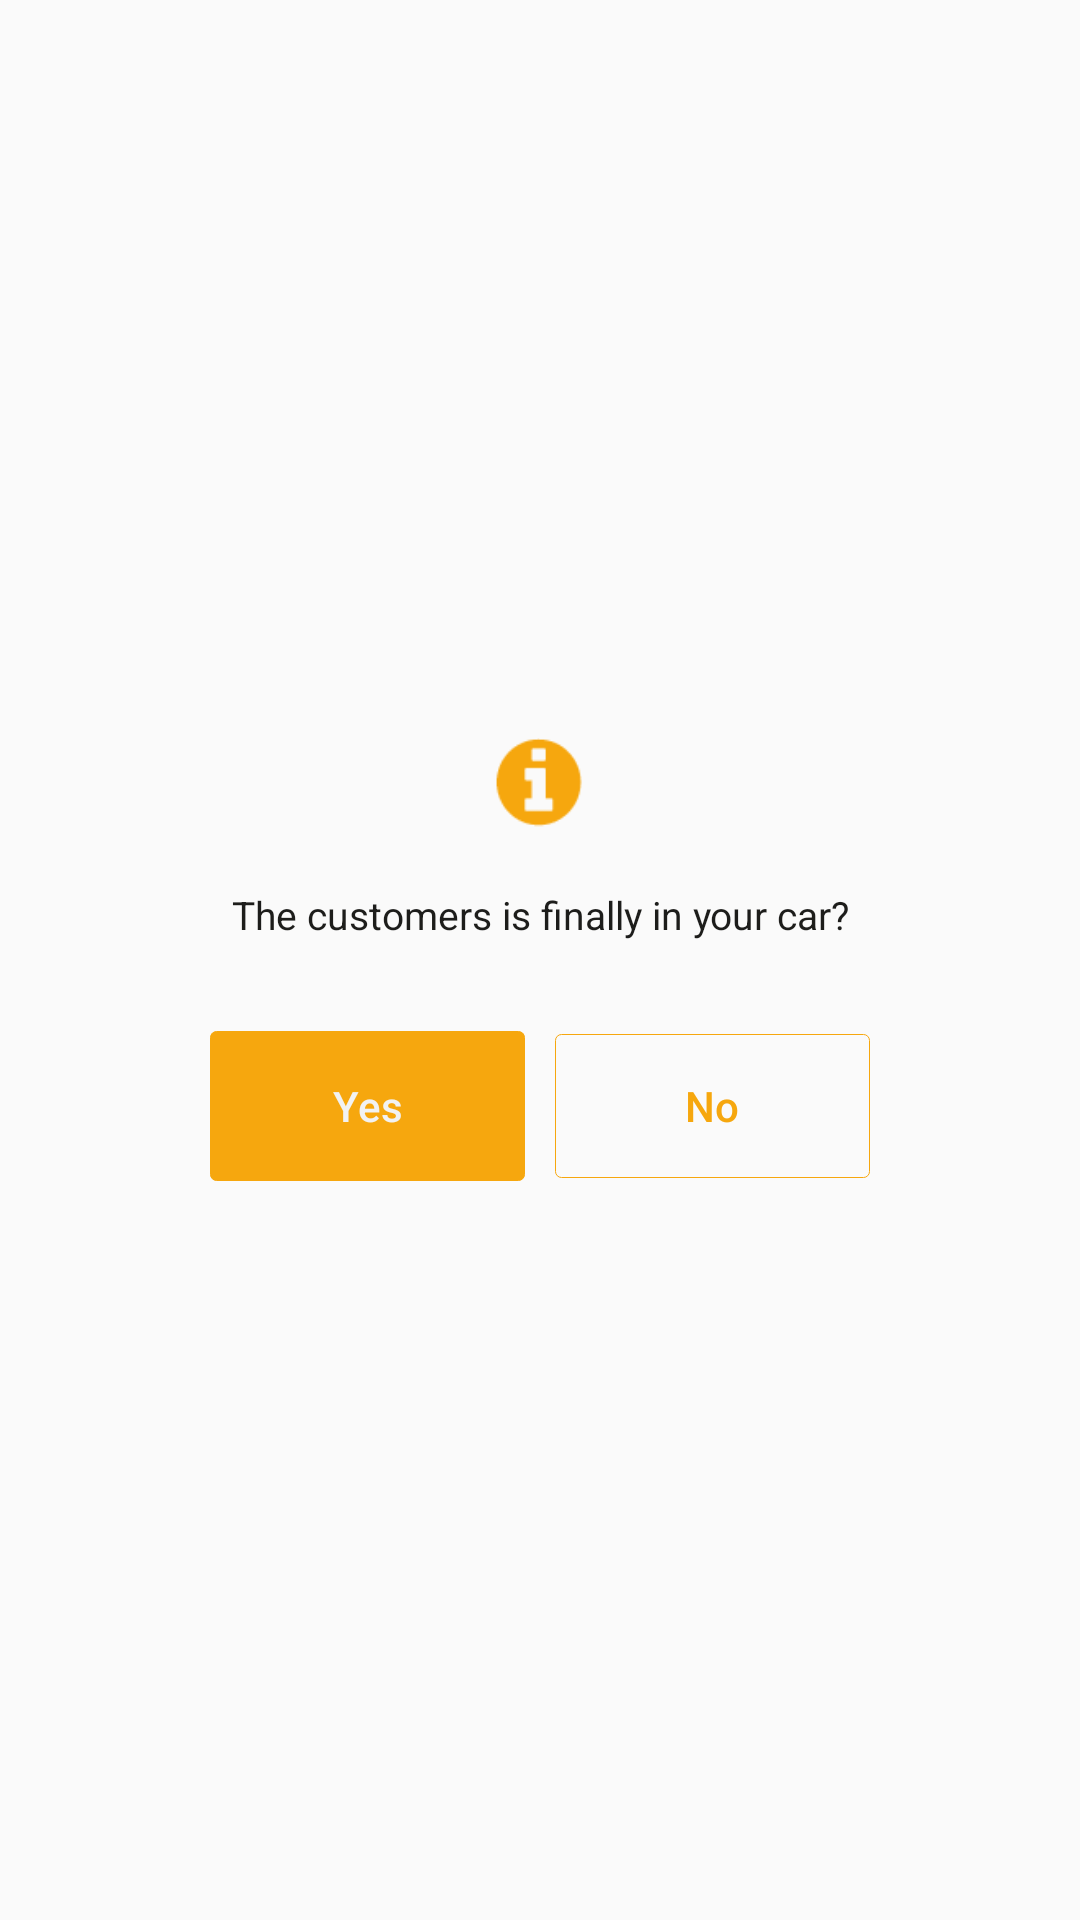

Where to tap for icons on this 1080x1920 app screen, as point (x, y):
info: point (539, 782)
